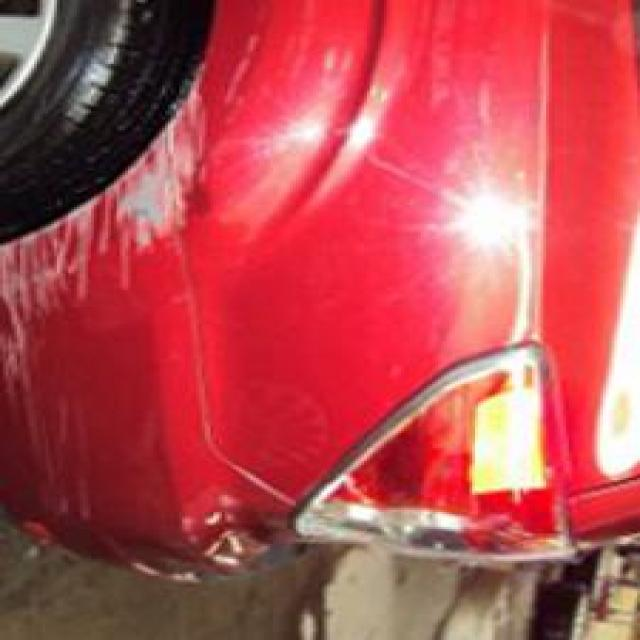scratch: (0, 70, 273, 418)
